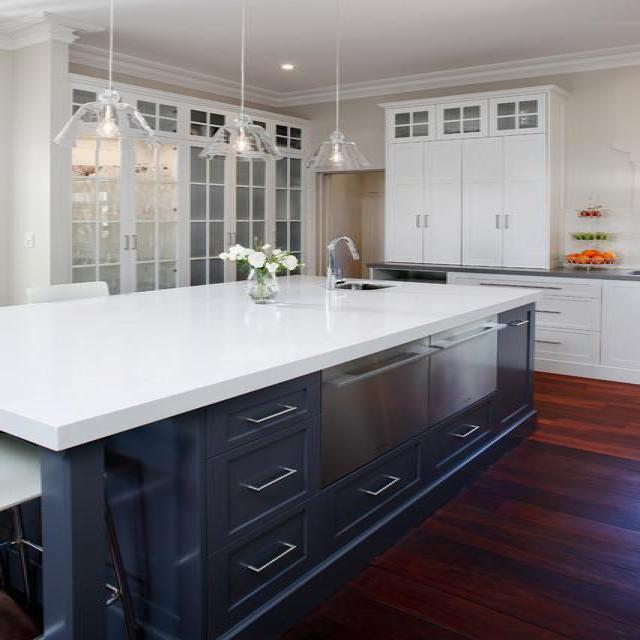dishwasher: (285, 288, 526, 482)
